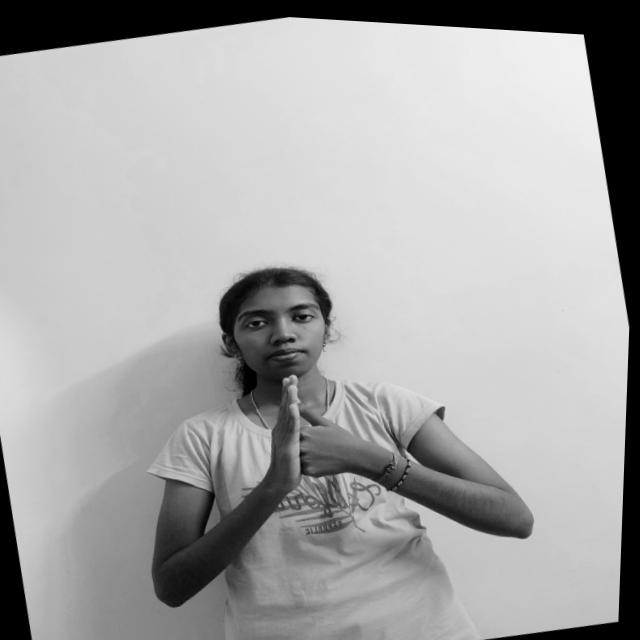Well Done: (231, 347, 399, 504)
